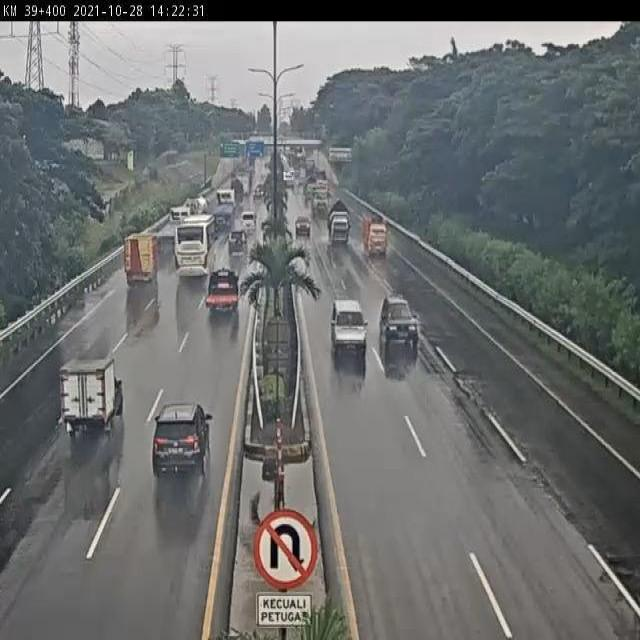bus-l-: (173, 214, 219, 278)
car: (60, 359, 123, 436), (379, 292, 419, 349), (226, 227, 249, 256), (294, 216, 311, 239), (240, 212, 257, 233)
truck-l-: (152, 199, 191, 244), (206, 188, 238, 231)
truck-m-: (190, 191, 211, 216)
truck-s-: (202, 267, 242, 316), (124, 232, 157, 287), (359, 212, 391, 261), (324, 198, 352, 245)
